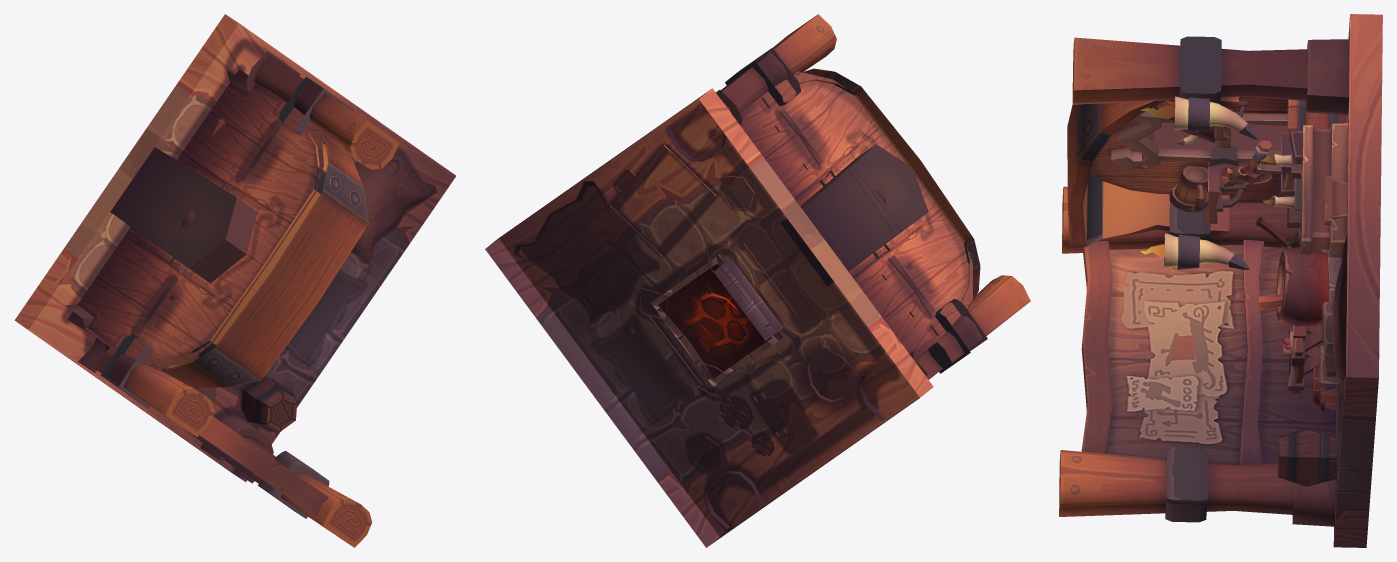
The model's file is viking_room3.gltf.
The picture shows the model from 3 angles, left to right: view 1: azimuth 30°, elevation 25°; view 2: azimuth 150°, elevation 25°; view 3: azimuth 270°, elevation 25°; orthographic projection. The views are drawn at different scales.
Visible parts, largest first — view 1: mesh_all1_Texture1_0; view 2: mesh_all1_Texture1_0; view 3: mesh_all1_Texture1_0.
Boxes of the visible parts, x1,y1,x2,y2 form: mesh_all1_Texture1_0: [14, 14, 455, 547]; mesh_all1_Texture1_0: [485, 14, 1030, 547]; mesh_all1_Texture1_0: [1059, 14, 1382, 547].
Bounding box in the file's own units: 1.96 × 1.97 × 1.08.
Materials: 1 (1 with a texture image).
